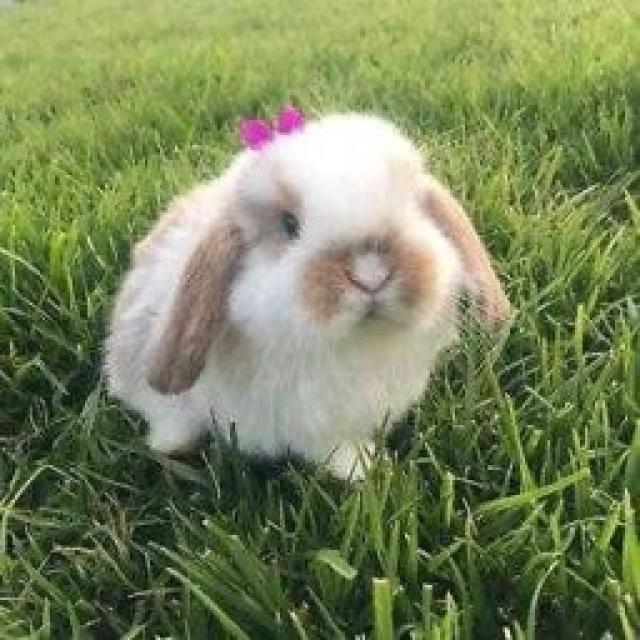not_pig: (100, 103, 515, 485)
